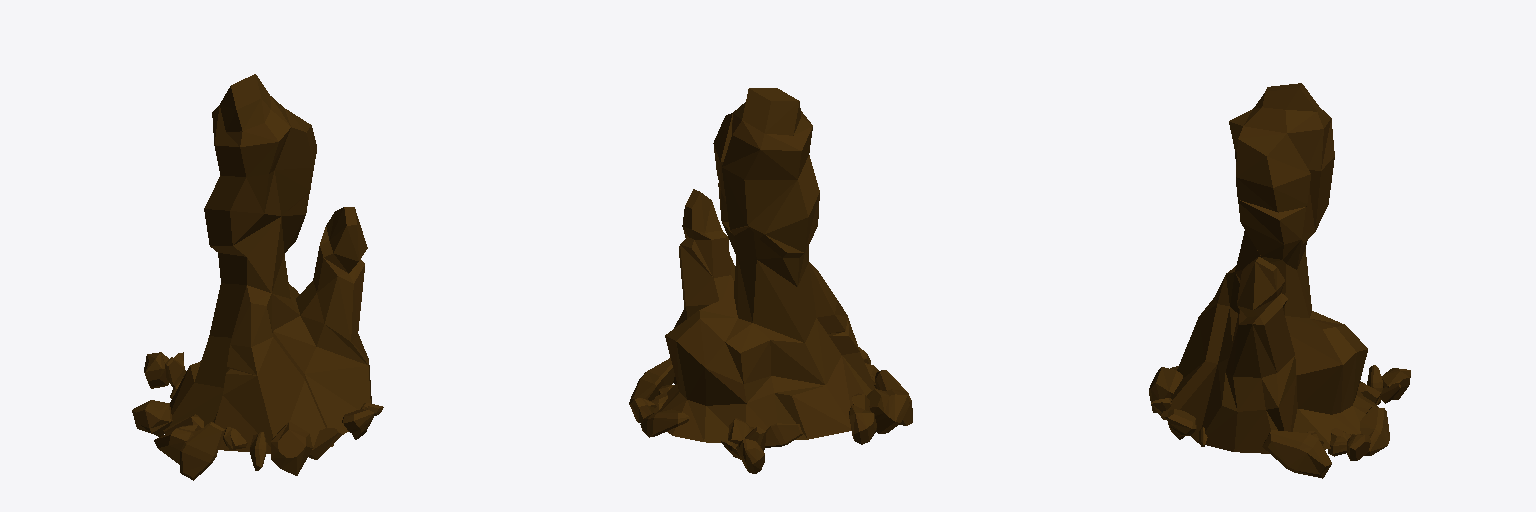
The model's file is Columna2.obj.
The picture shows the model from 3 angles: view 1: azimuth 30°, elevation 25°; view 2: azimuth 150°, elevation 25°; view 3: azimuth 270°, elevation 25°; orthographic projection.
Visible parts, largest first — view 1: Column01_Mesh.002; view 2: Column01_Mesh.002; view 3: Column01_Mesh.002.
Part boxes in pixels (x1,y1,x2,y2): Column01_Mesh.002: (132,74,383,480); Column01_Mesh.002: (629,88,912,473); Column01_Mesh.002: (1149,83,1410,478).
Size of the model in its own units: 9.02 by 12.88 by 8.89.